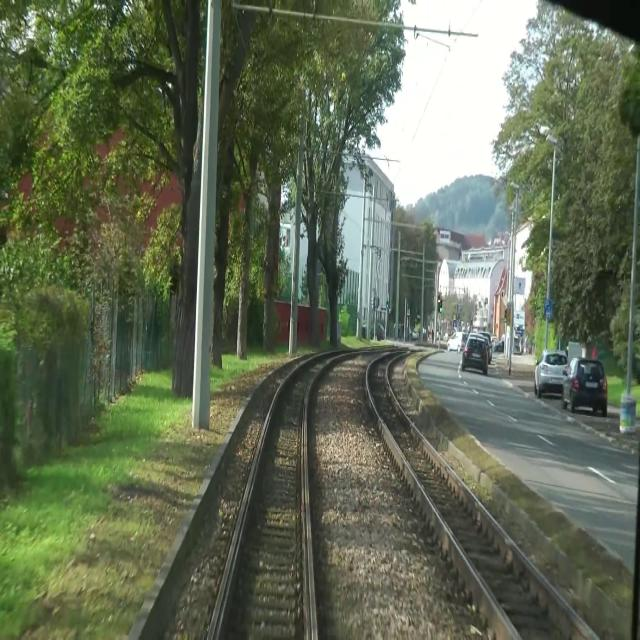rail-track: (368, 356, 591, 639), (212, 354, 331, 639)
